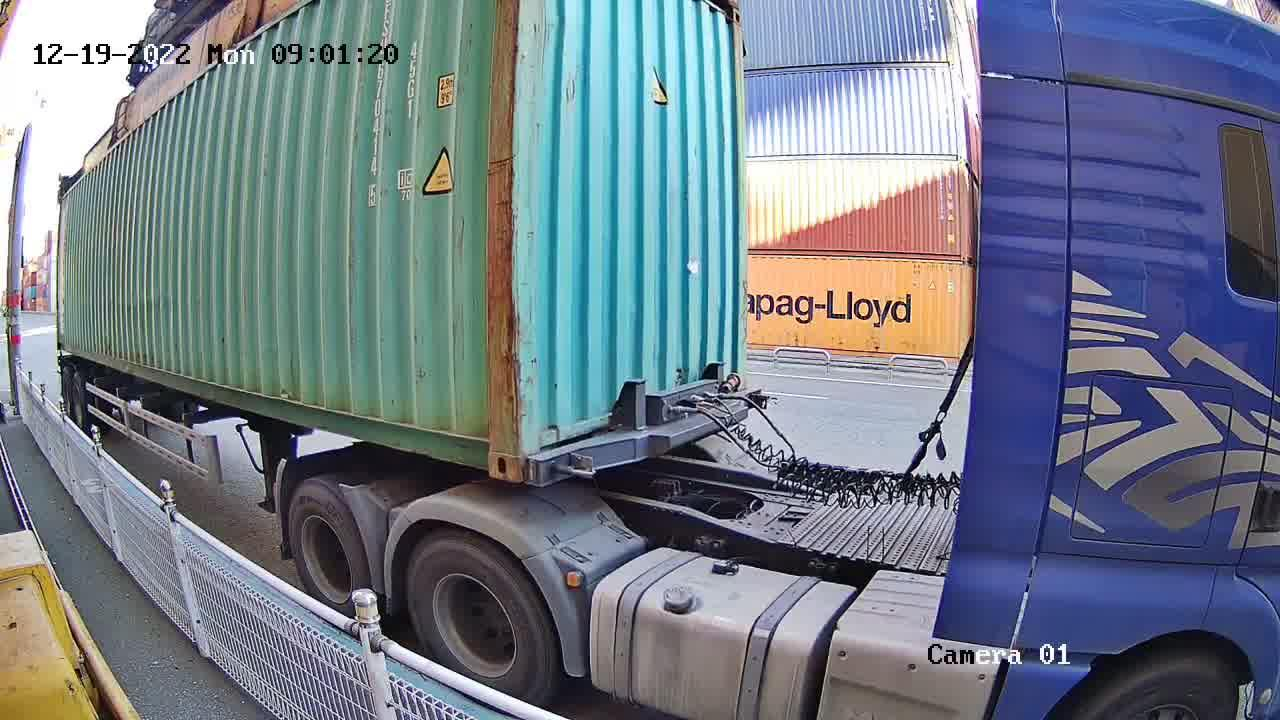Chassis: (525, 389, 759, 485)
Hole_R: (457, 415, 523, 483)
Tire: (409, 539, 548, 690), (286, 482, 365, 610)
